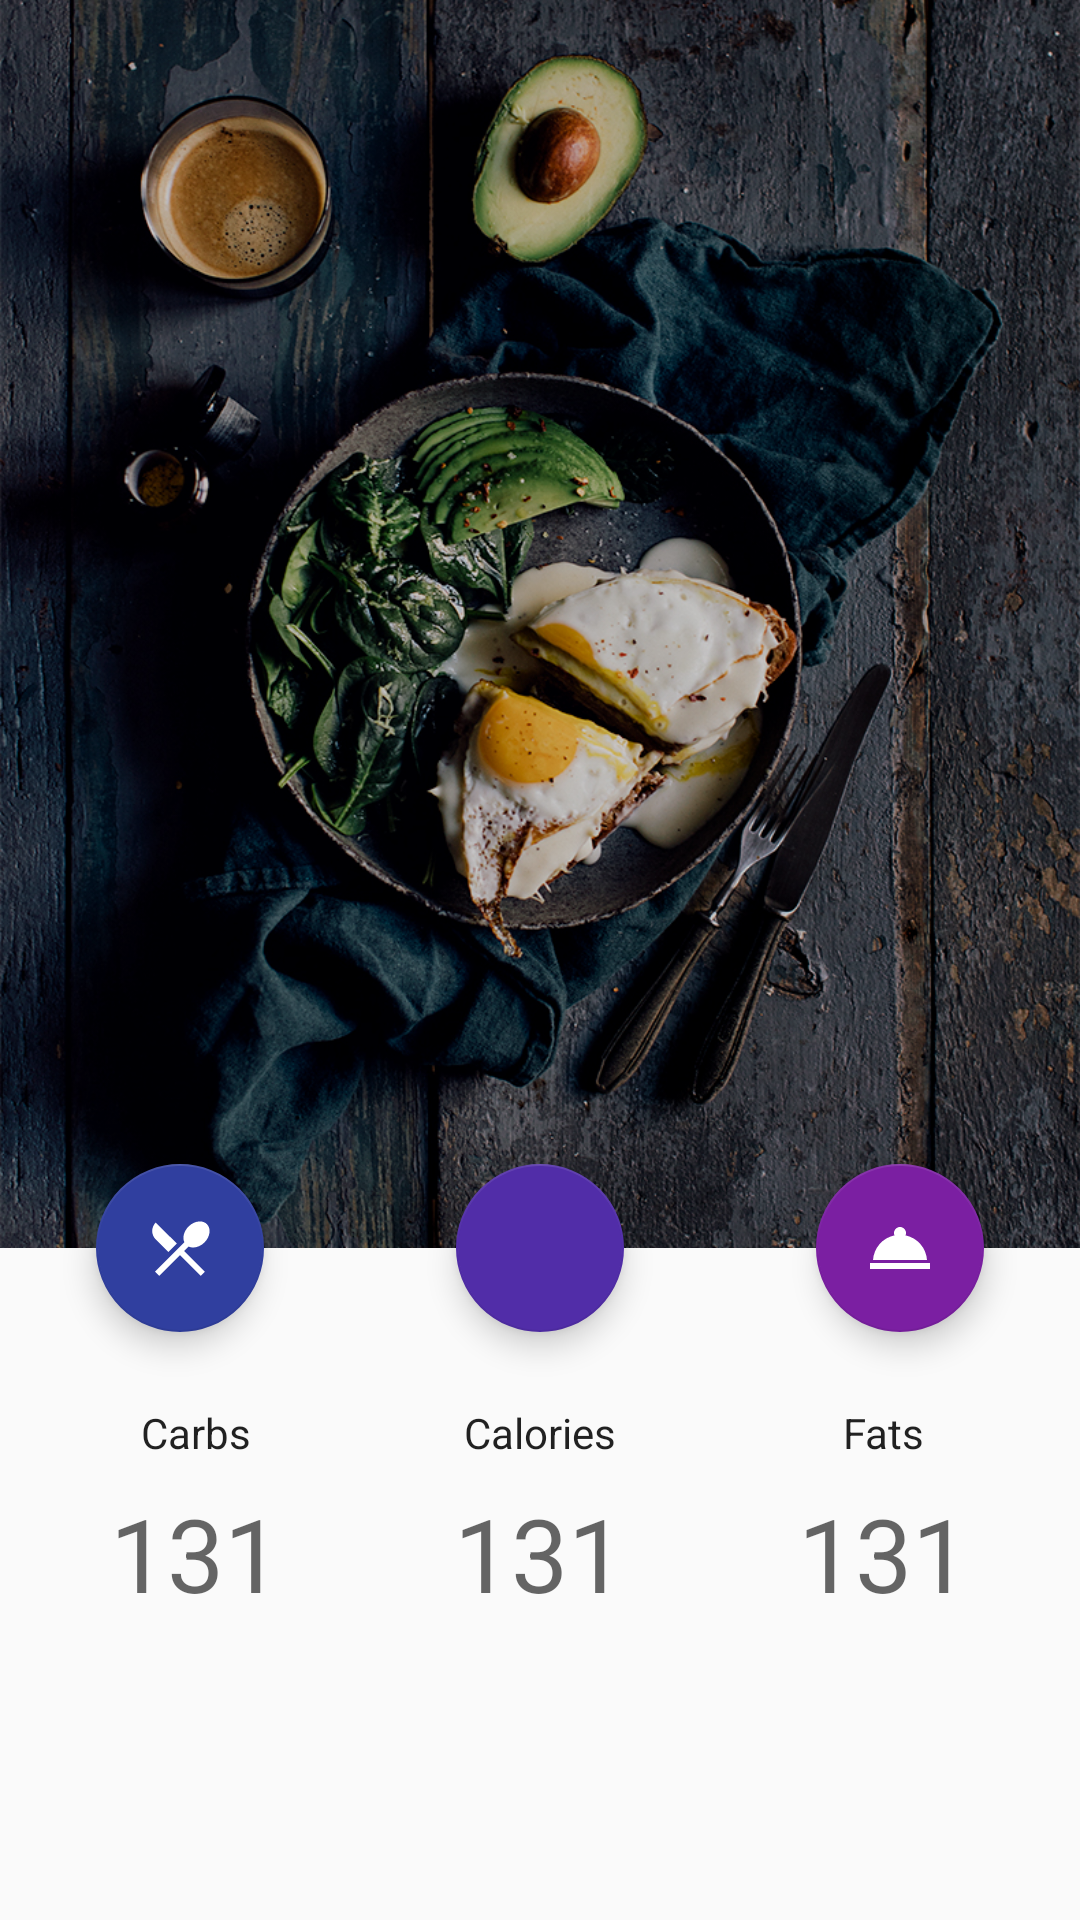

Named icons in this screenshot (1080 × 1920) and their centers, [x,y]:
restaurant menu: [180,1248]
room service: [900,1248]
